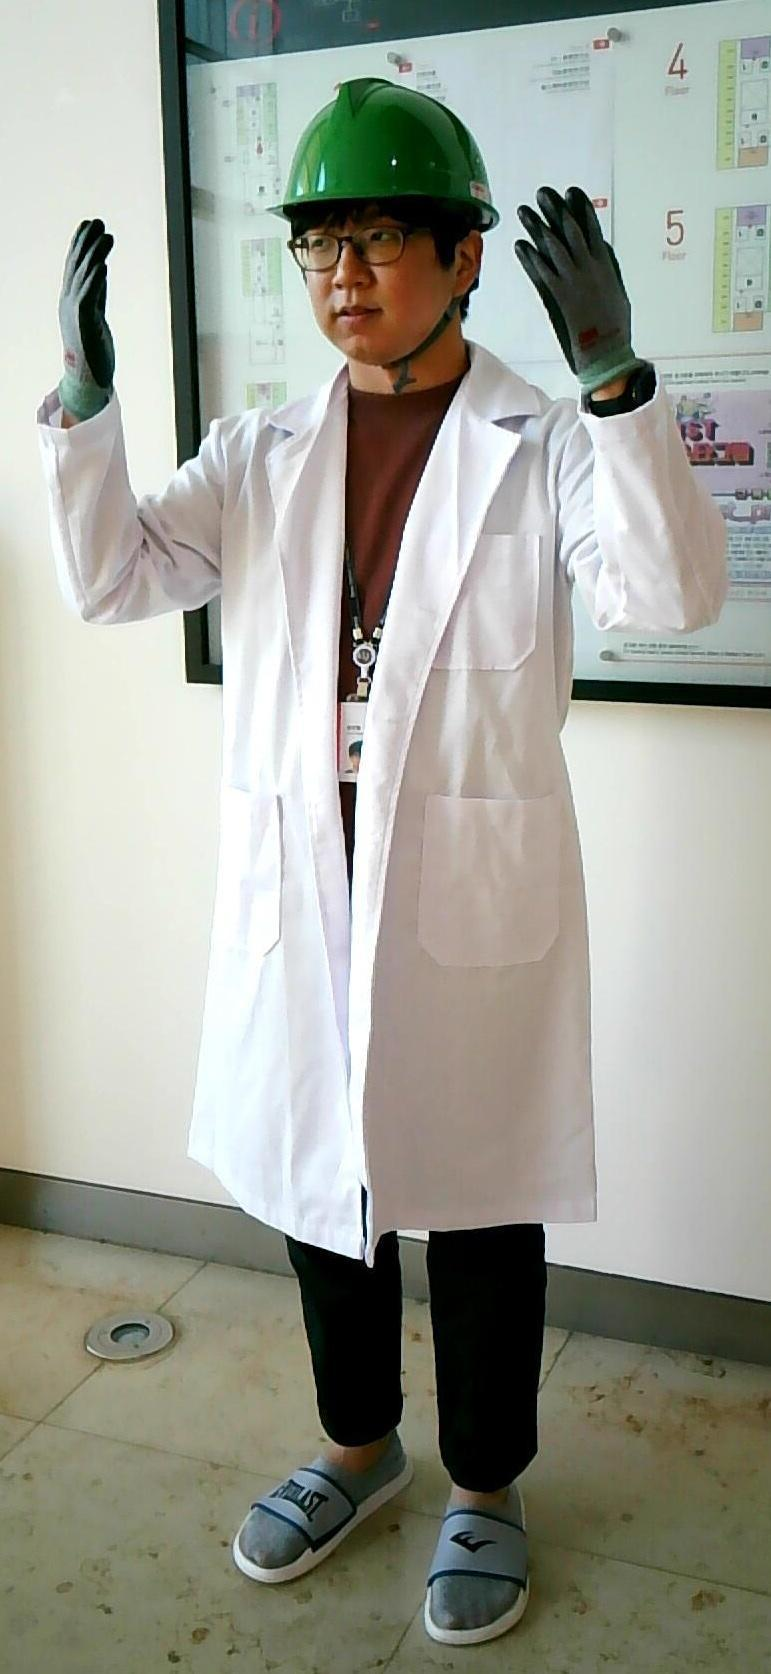lab_coat: (188, 404, 584, 1232)
